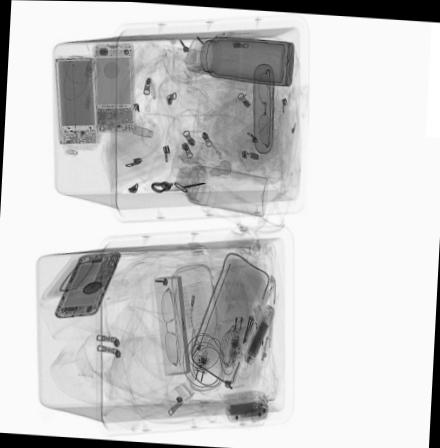Powerbank: (55, 58, 97, 145)
